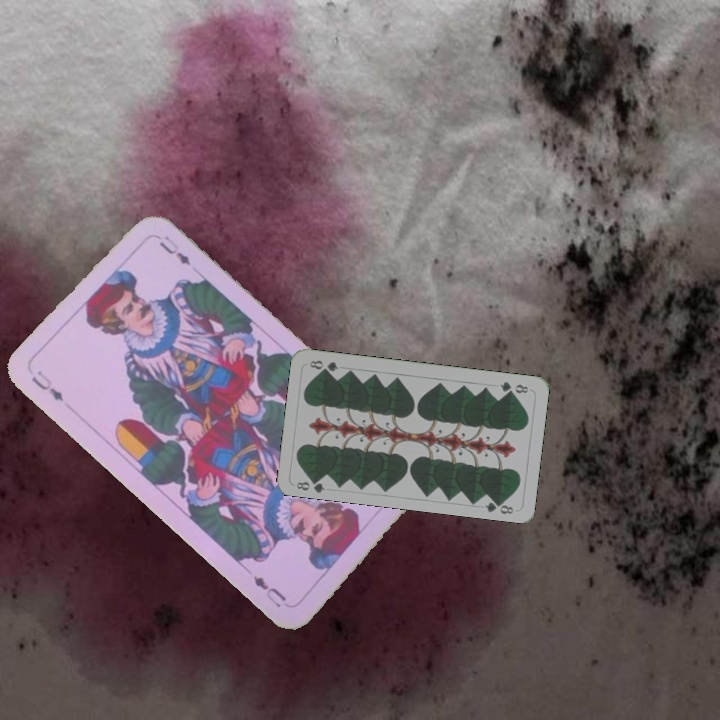EU: (27, 366, 67, 405)
G8: (292, 473, 327, 495), (496, 377, 531, 396)
